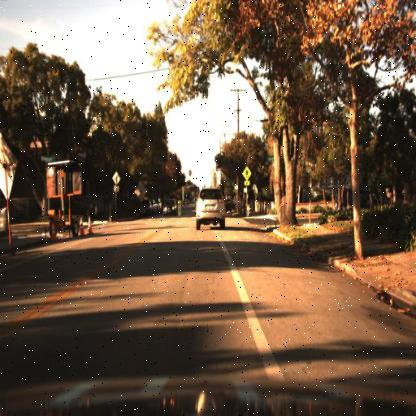car: (194, 186, 228, 235), (332, 188, 372, 216), (161, 192, 179, 218)
truck: (42, 162, 82, 238)
